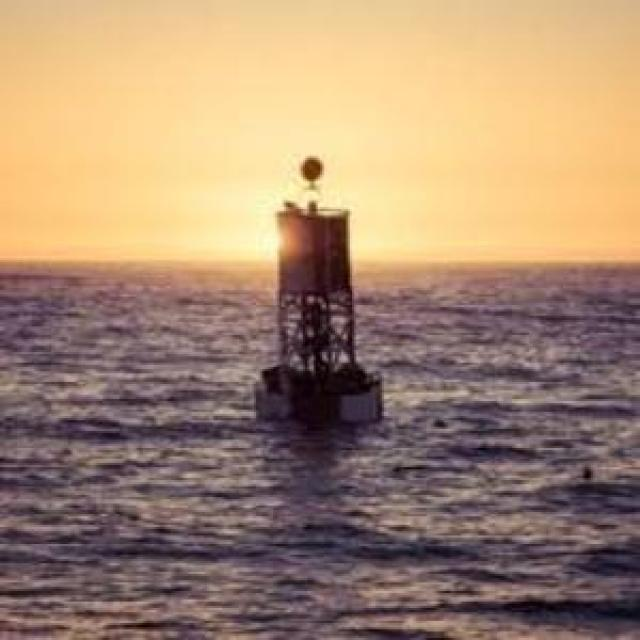buoy: (249, 154, 386, 422)
